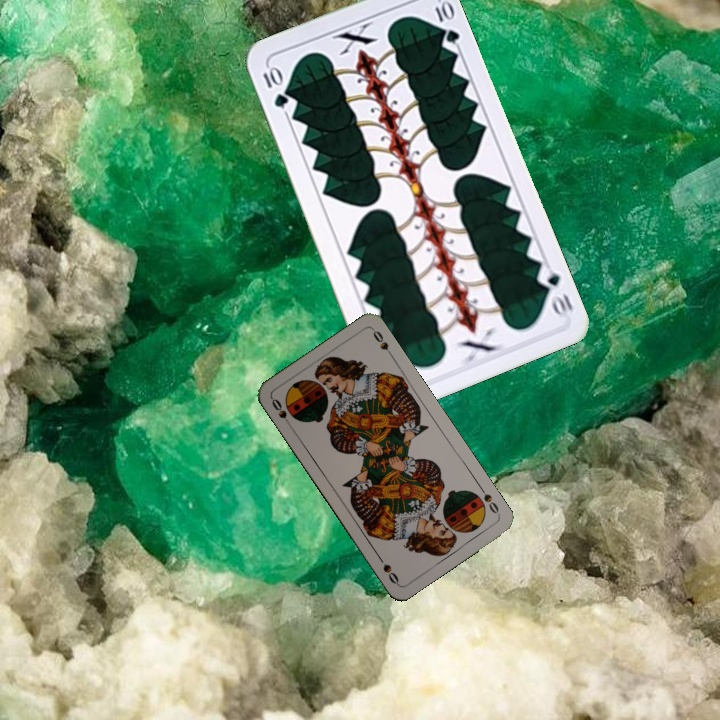G10: (533, 266, 575, 321), (258, 62, 291, 111)
SO: (267, 394, 295, 431), (475, 482, 502, 518)
